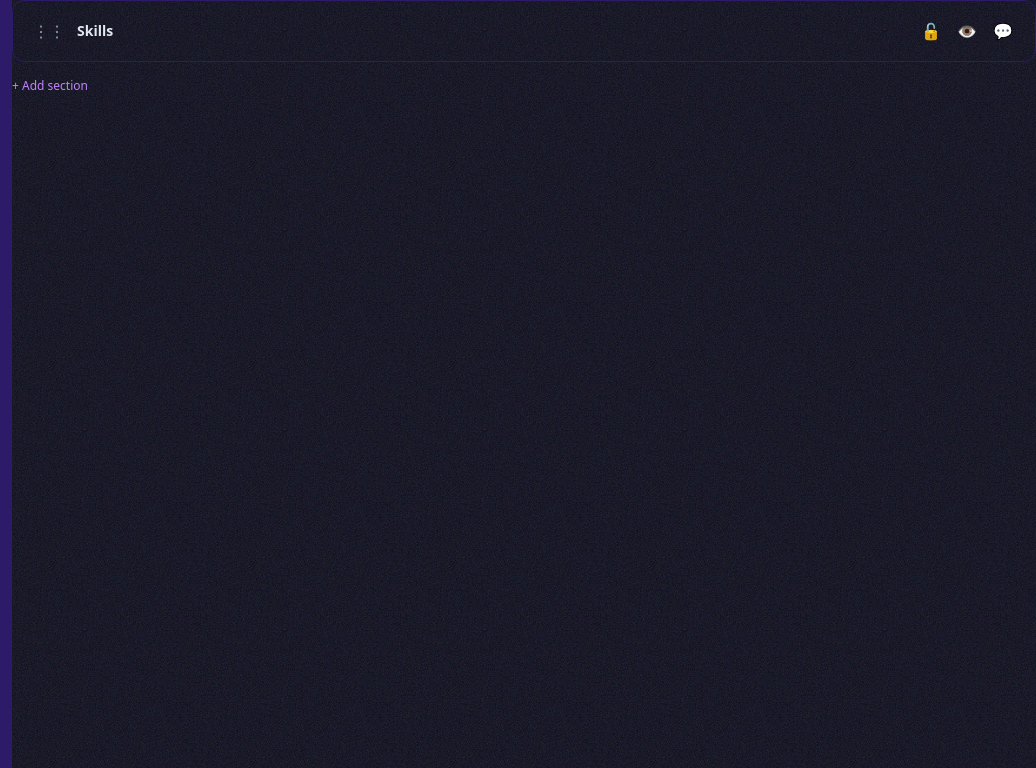
Test case: ProfileTreeEditor › Discard reverts edits and hides the bar
Click the text "Skills".
click(95, 31)  # box [77,21,113,41]
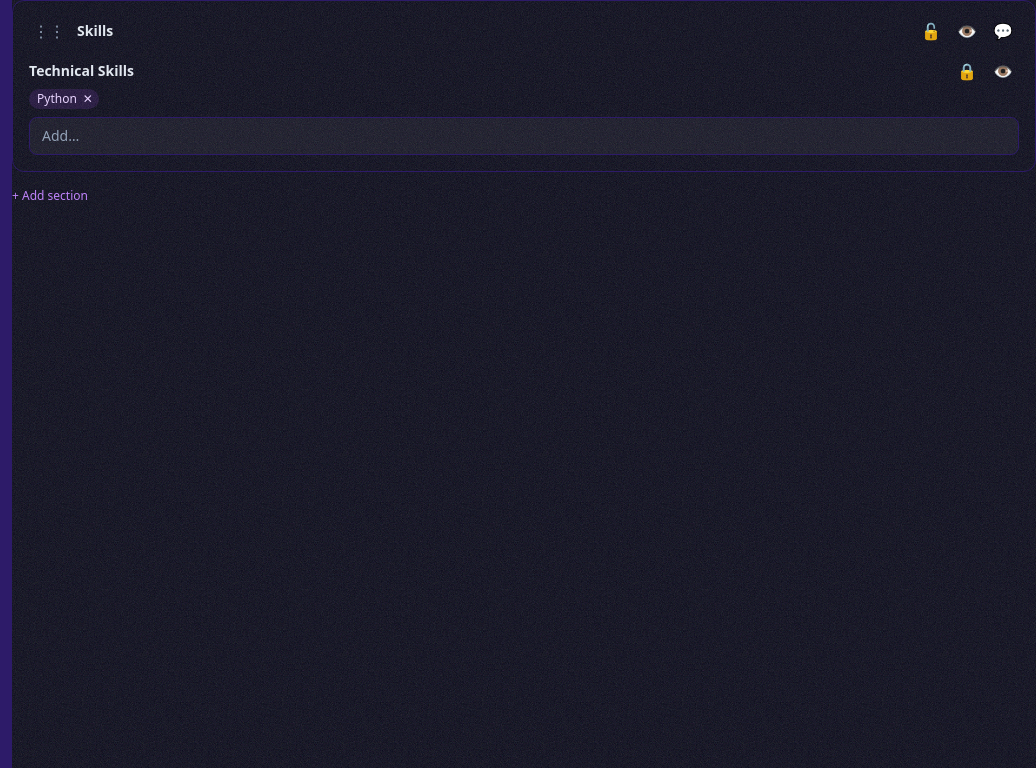
Click the button named "Remove Python".
click(88, 99)  # box [81,91,95,107]
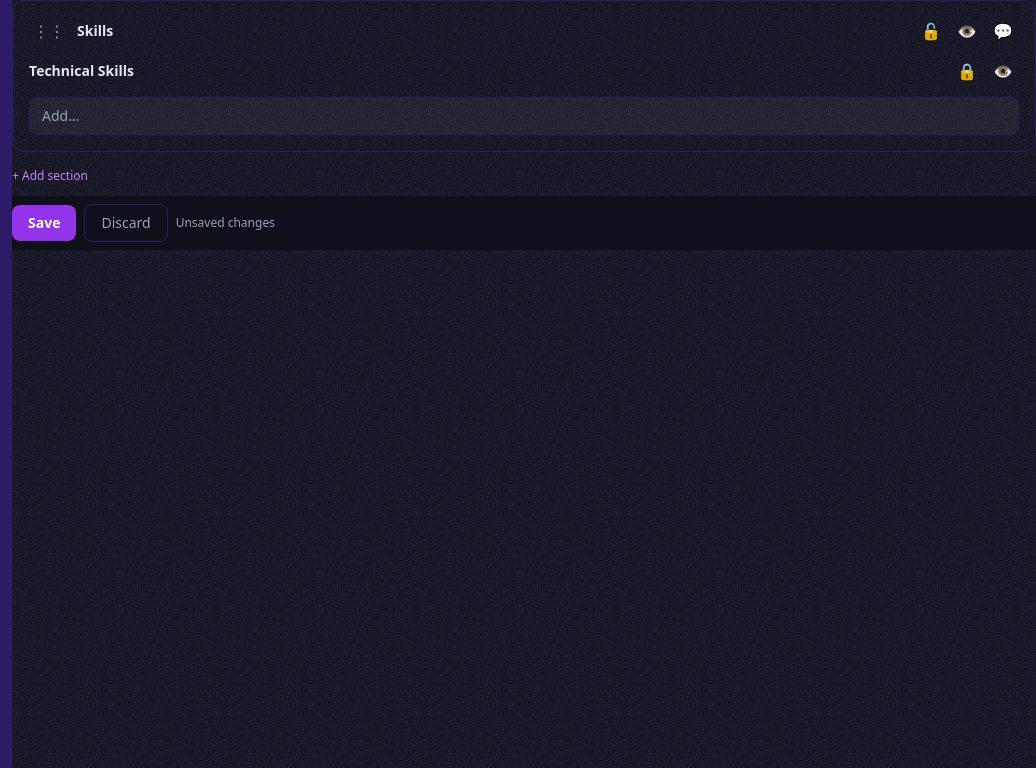
Click the button "Discard".
click(126, 223)  # box [84,204,168,242]
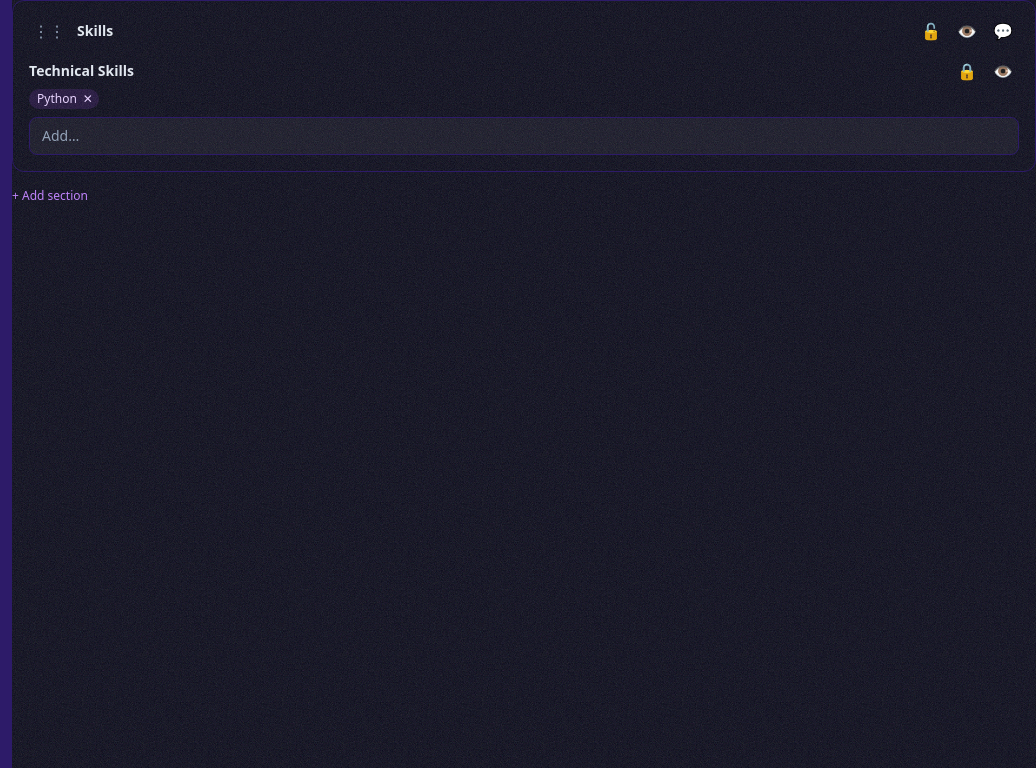
Expected: the button "Python" is shown, [37,91,77,107]
Expected: the button "Save" is gone
